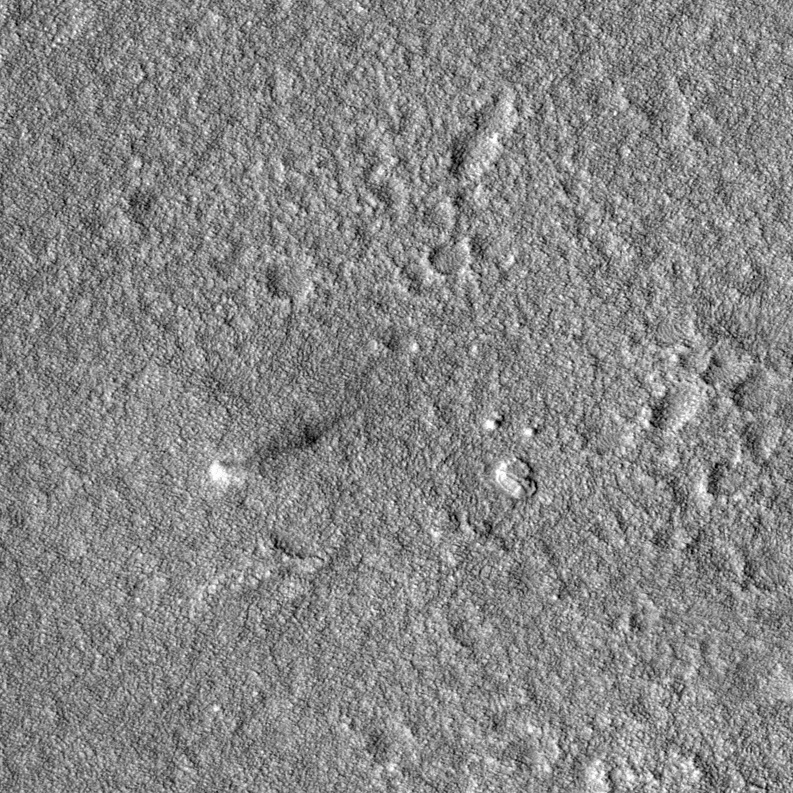dust_devil: (207, 406, 359, 491)
